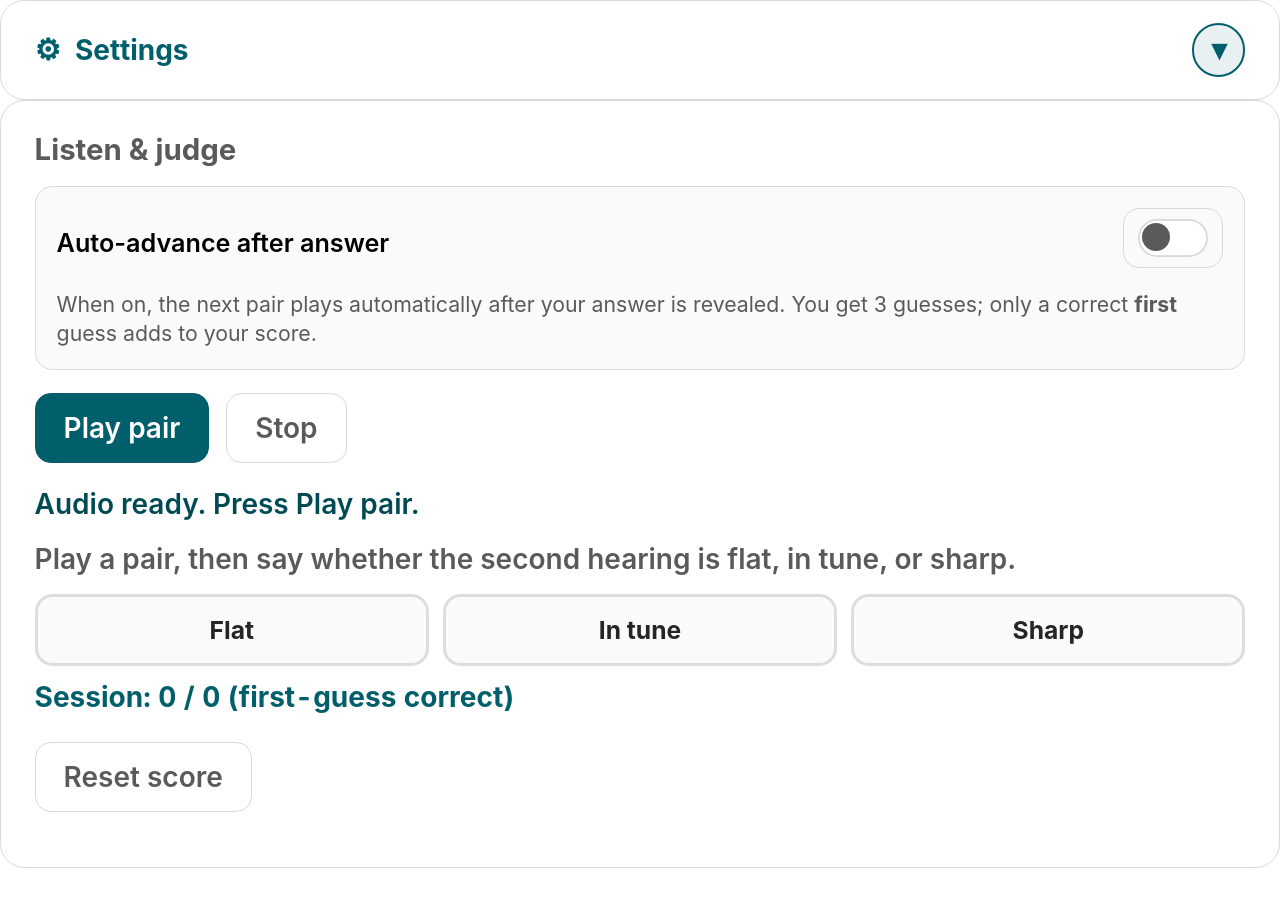
Test case: TuningTopic — first-guess scoring (docs/05-topics/11 §7) › counts a wrong-then-right answer as total+1, correct+0 (only first guess scores)
This screenshot has width=1280, height=900.
Click the button "Play pair": x=122, y=428 [35,393,209,463]
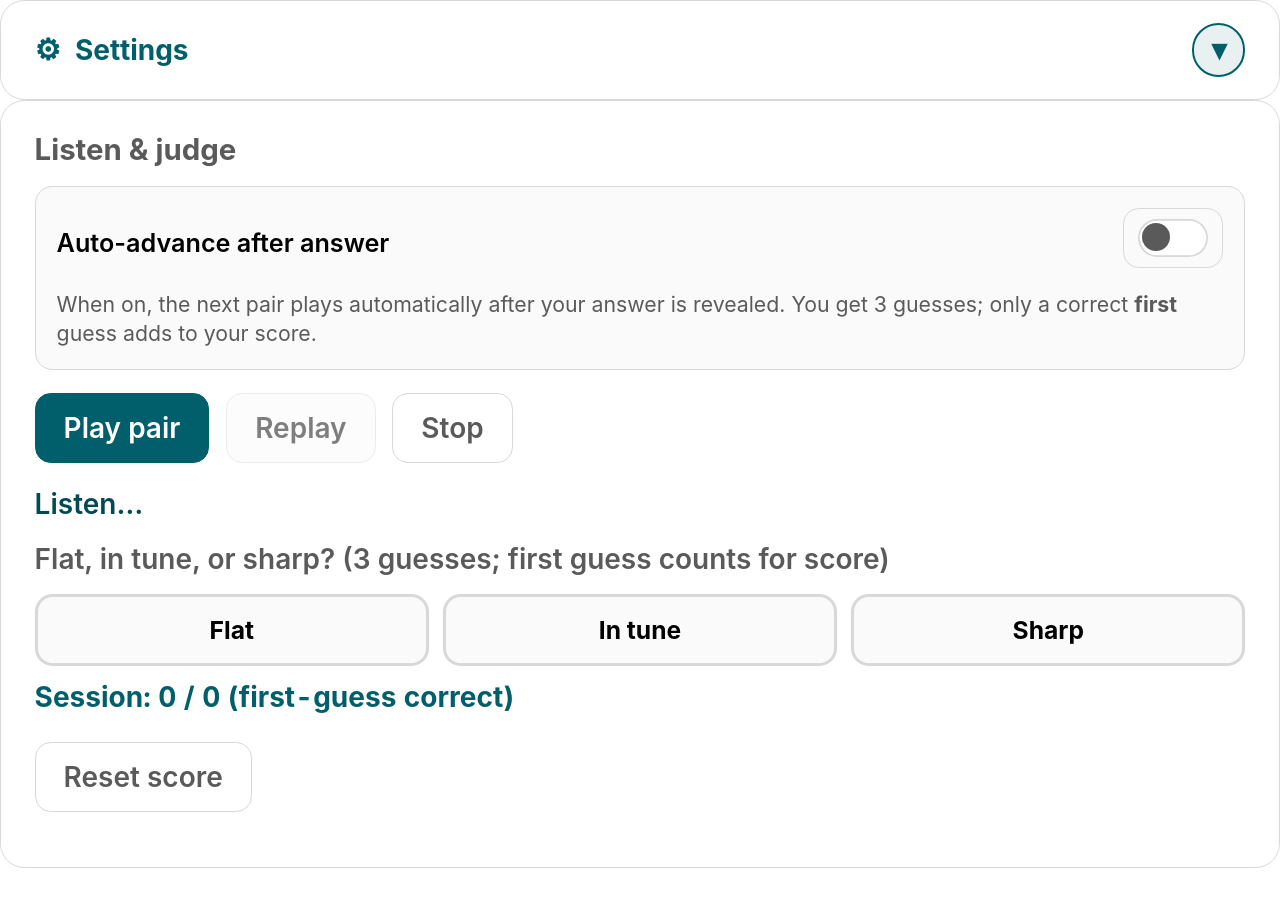
Click the button "Sharp": x=1048, y=630 [851,594,1245,666]
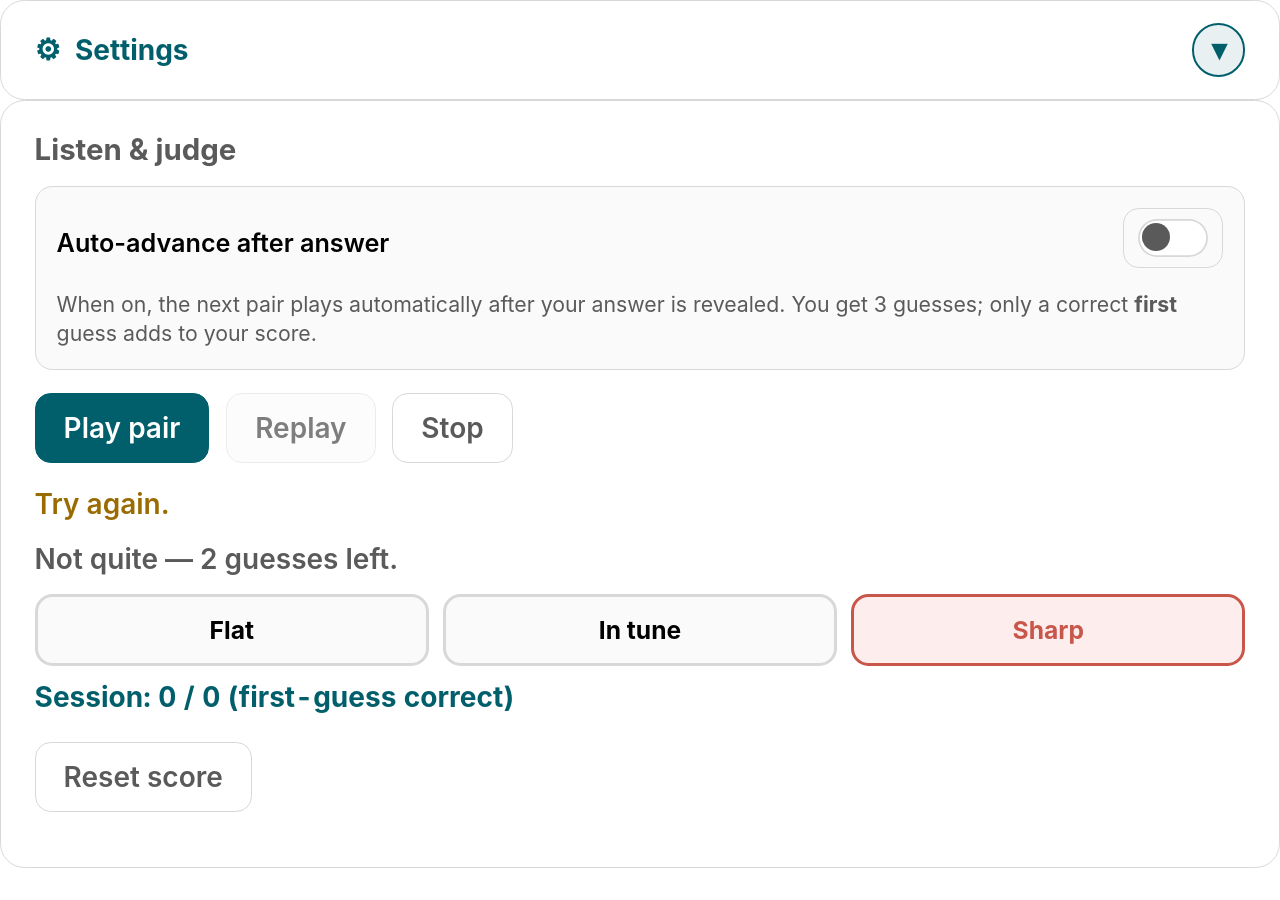
Click the button "In tune": x=640, y=630 [443,594,837,666]
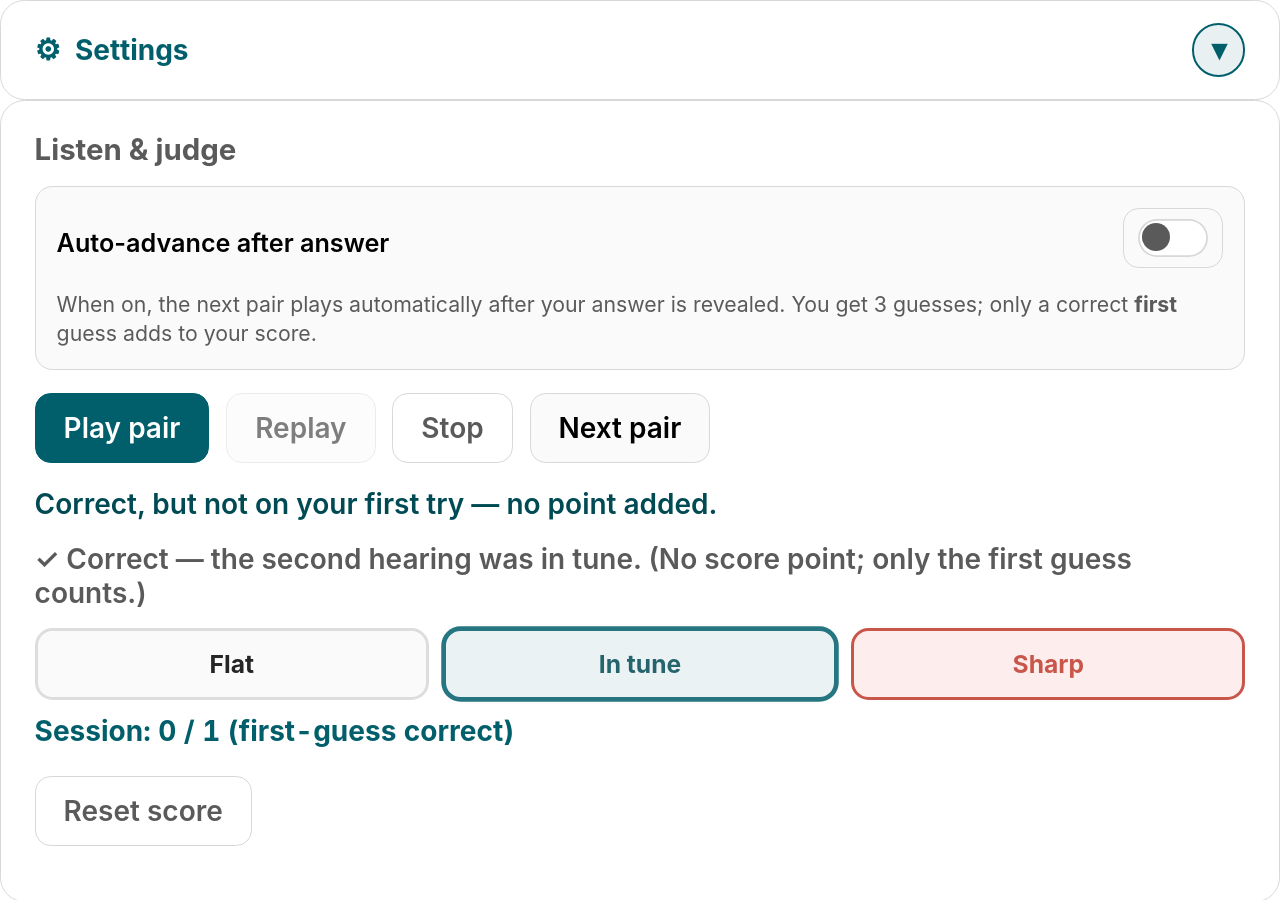
Result: the text "Session: 0 / 1 (first-guess correct)" is shown at [35,714,514,748]
